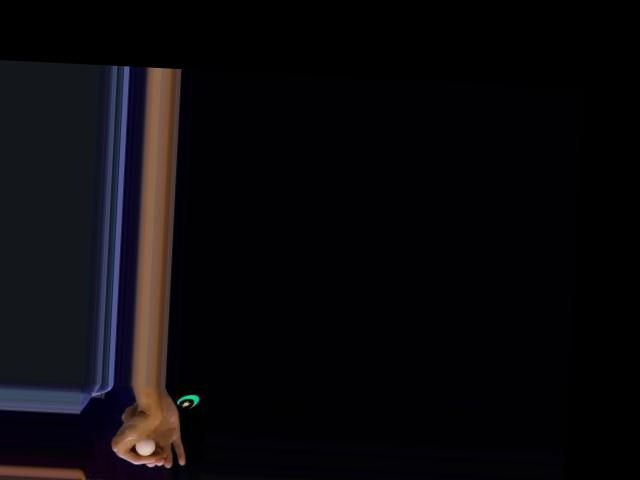egg: (134, 439, 155, 456)
